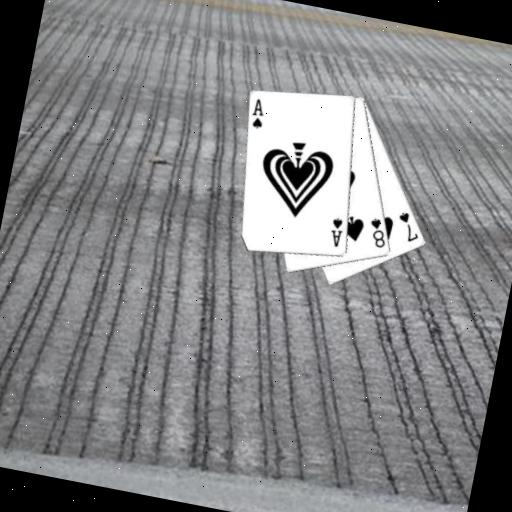7S: (392, 208, 425, 246)
8S: (363, 215, 392, 251)
AS: (247, 95, 270, 132), (326, 215, 347, 250)
